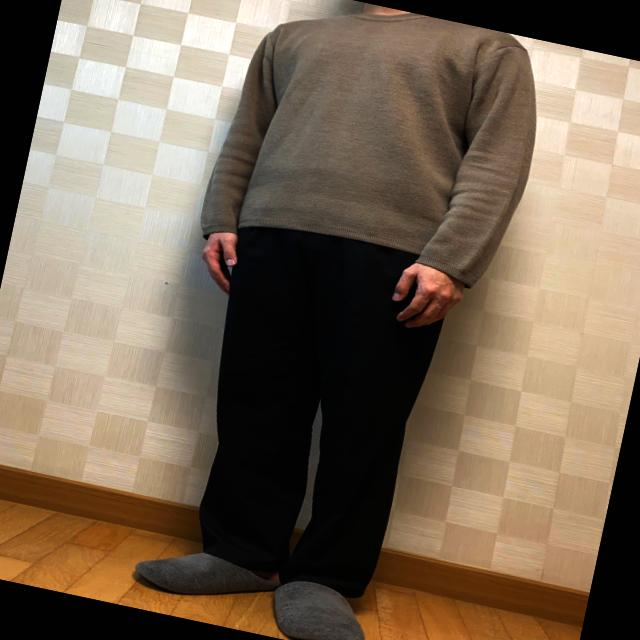slacks: (171, 215, 464, 618)
sweater: (193, 0, 553, 300)
